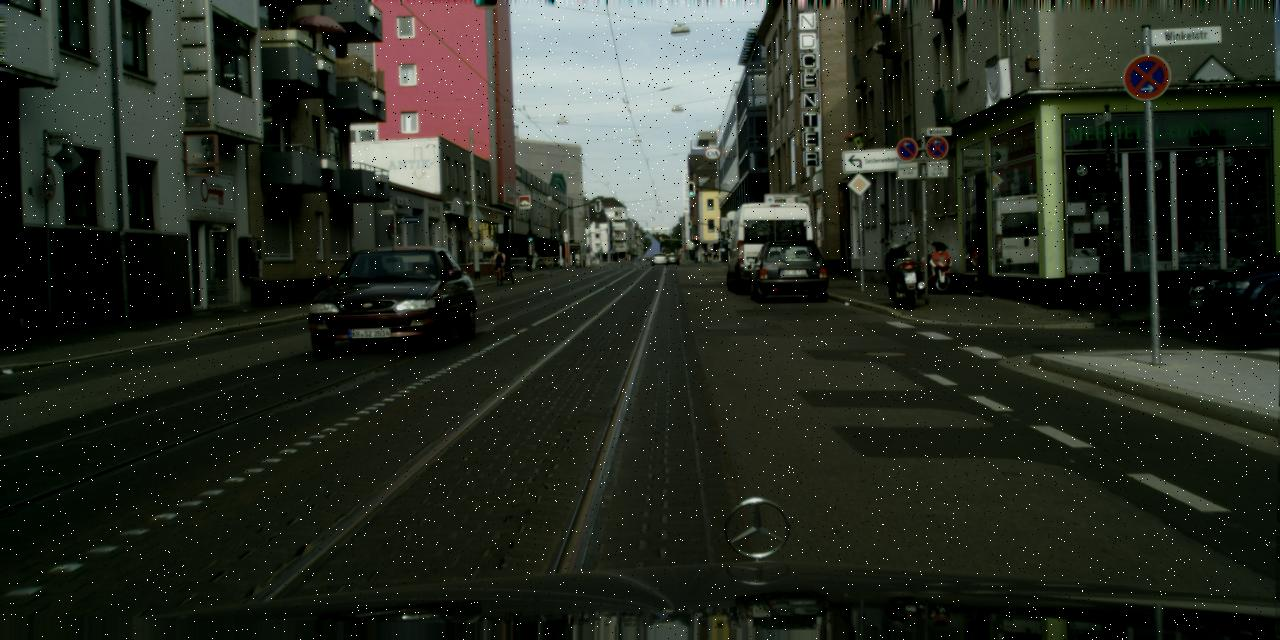ped: (494, 249, 504, 277)
